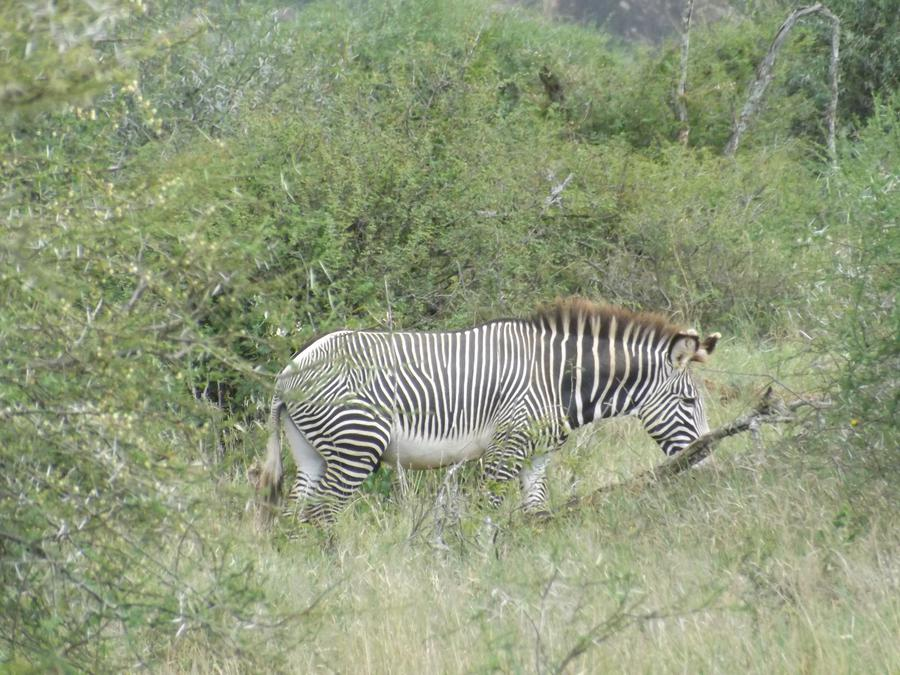zebra_grevys: (260, 313, 552, 462)
